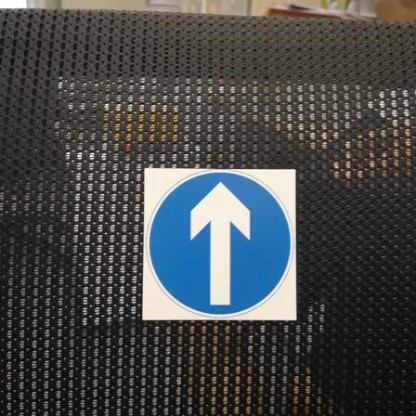forward: (146, 168, 297, 319)
